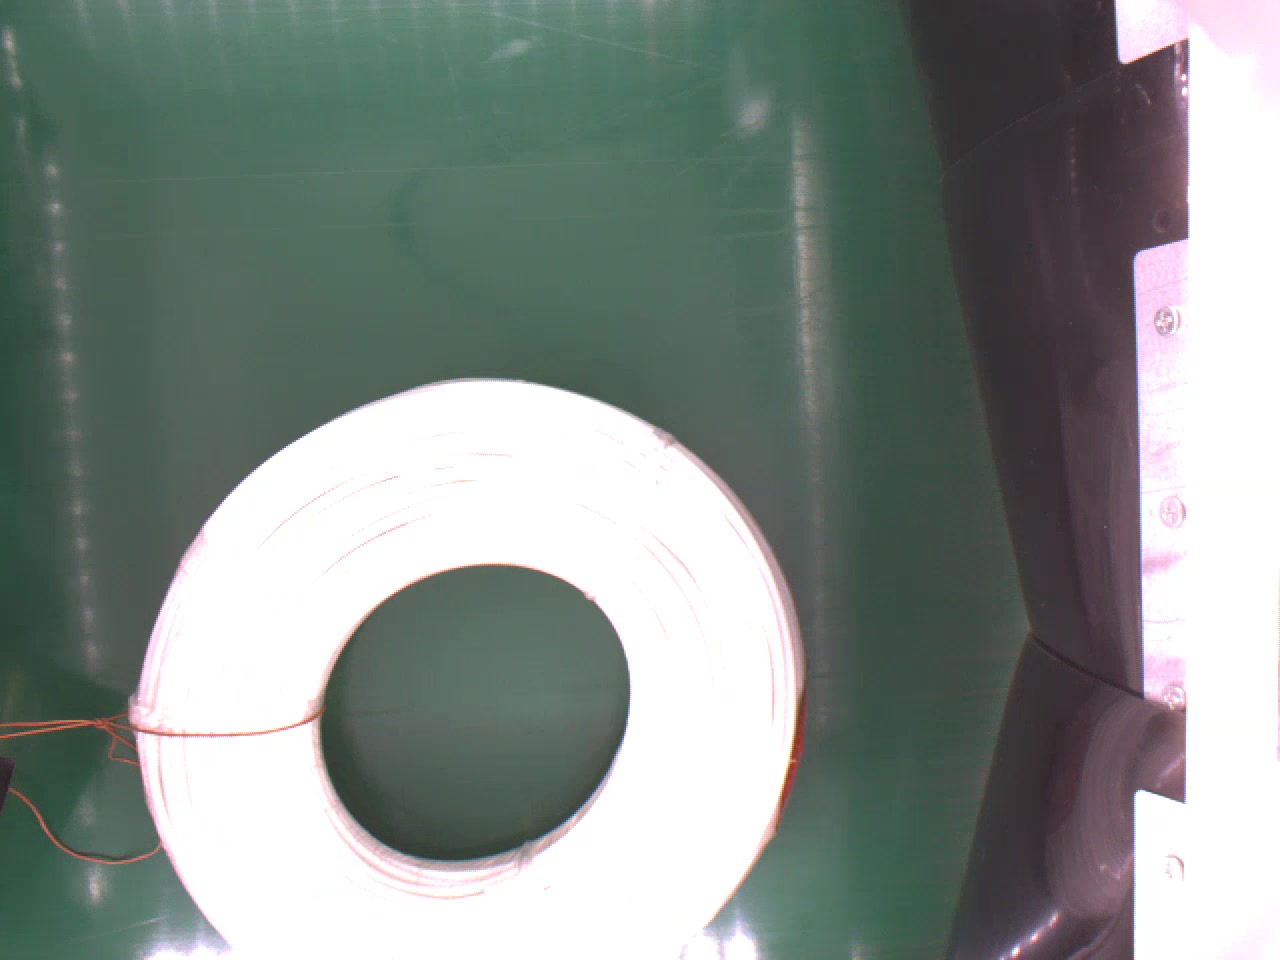white: (129, 380, 802, 960)
